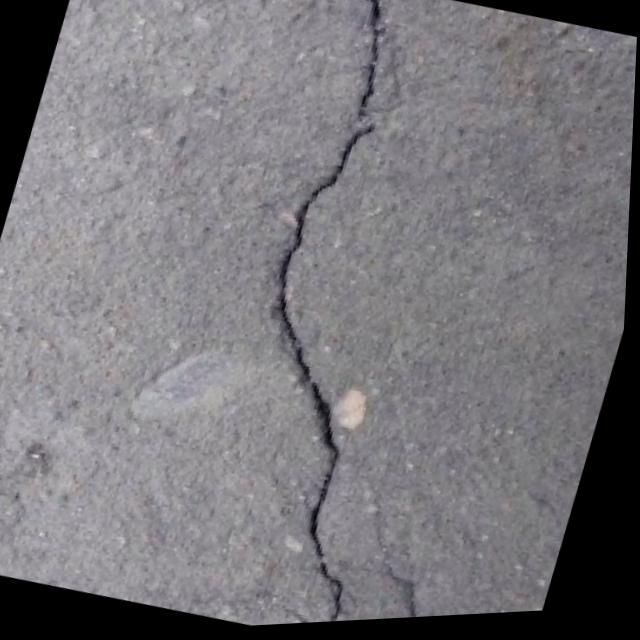Crack: (149, 0, 538, 633)
